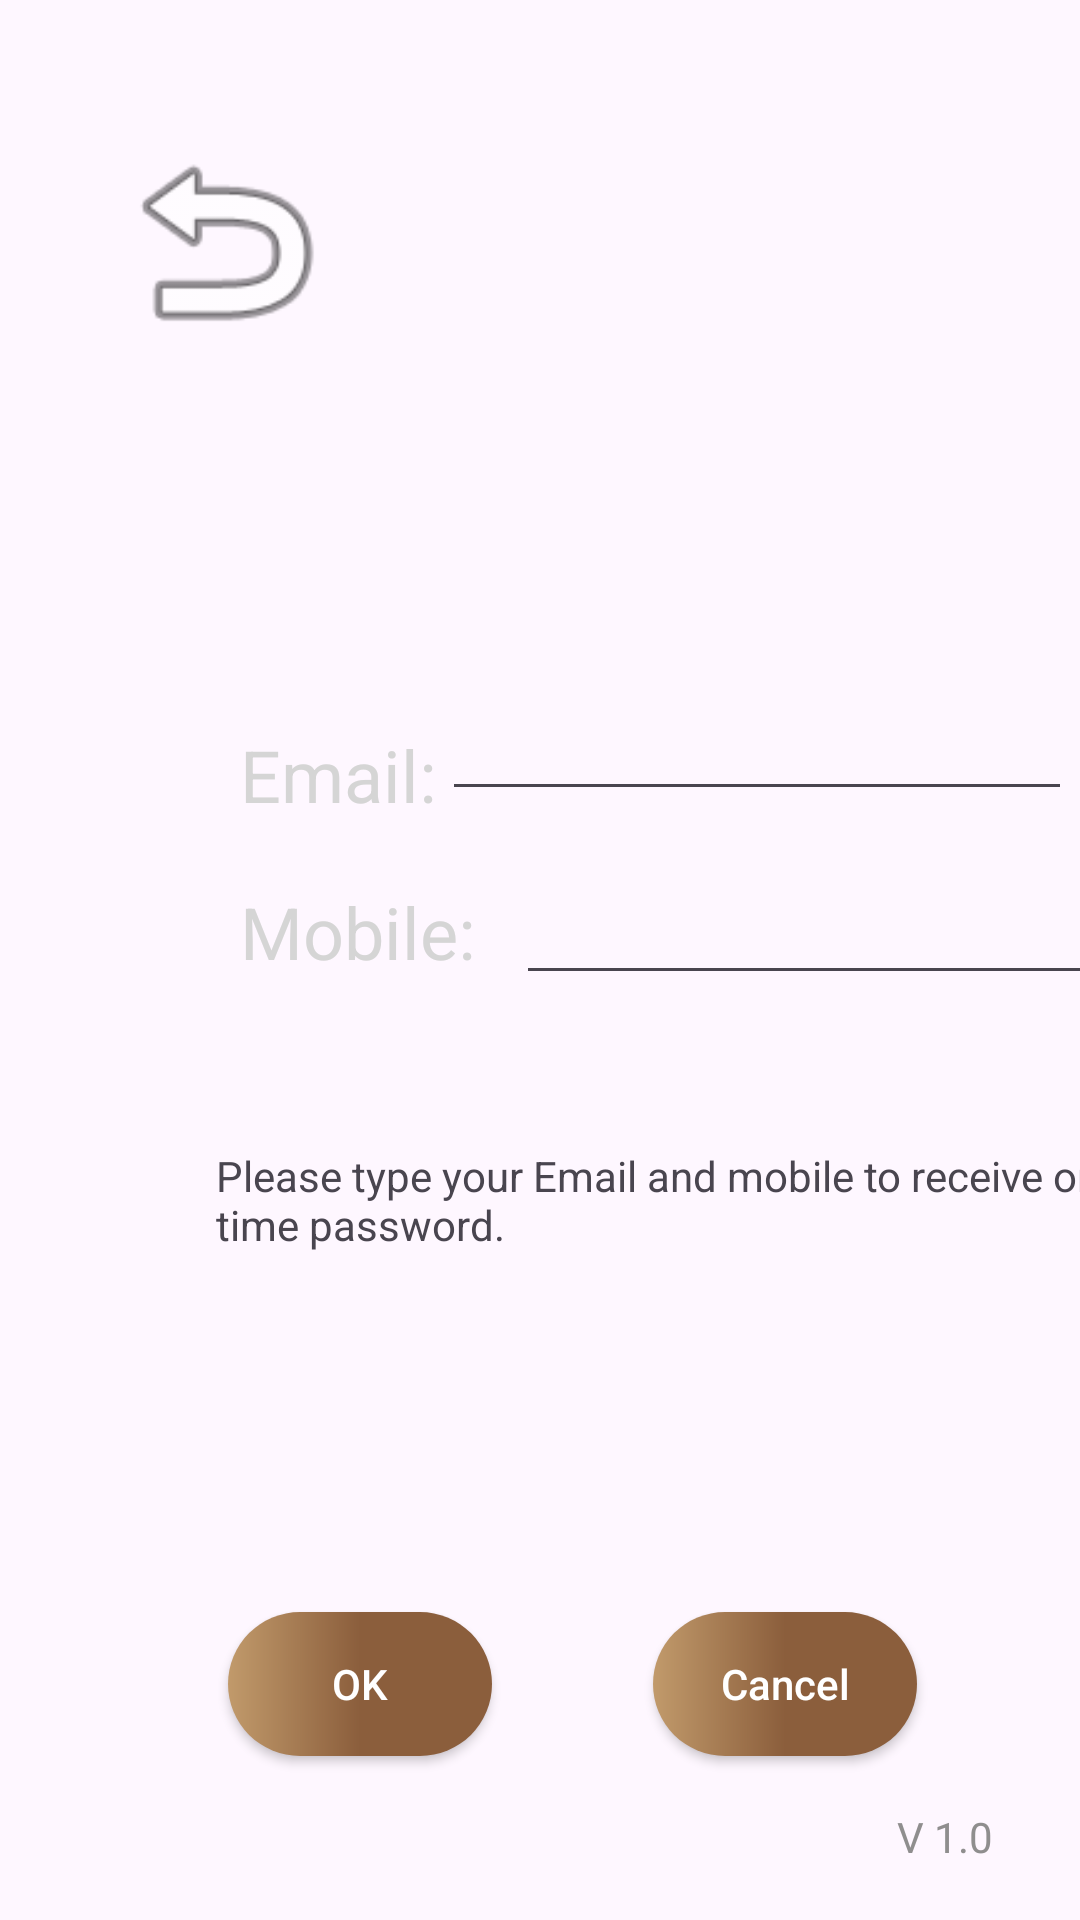

Icons on this 1080 × 1920 Android screen, each with the point to tap as (x,y):
revert: (227,243)
